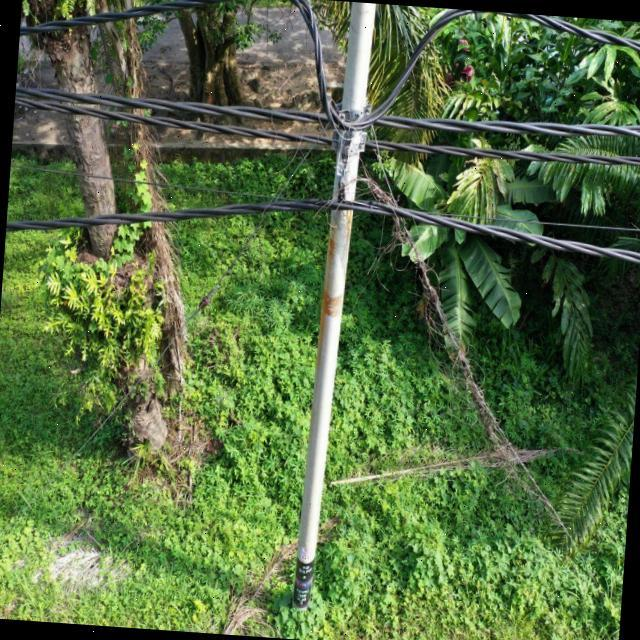critical vegetation: (316, 144, 634, 580)
